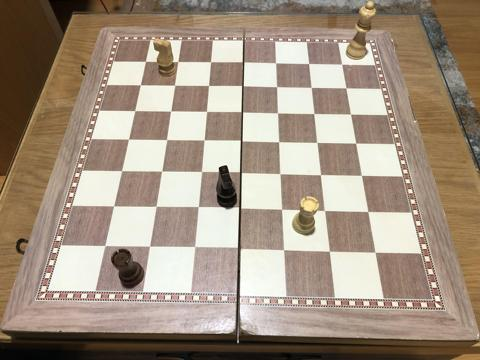xcorner: (303, 58, 315, 71), (238, 57, 250, 70), (173, 56, 185, 69), (123, 133, 135, 146), (108, 200, 120, 213), (336, 59, 348, 71), (271, 58, 283, 70), (205, 57, 217, 69), (140, 56, 152, 68), (341, 83, 353, 95), (306, 82, 318, 94), (272, 82, 284, 94), (237, 81, 249, 93), (203, 80, 215, 92), (169, 80, 181, 92), (135, 79, 147, 91), (345, 109, 357, 121), (309, 108, 321, 120), (273, 108, 285, 120), (237, 107, 249, 119), (201, 106, 213, 118), (165, 106, 177, 118), (129, 105, 141, 117), (350, 138, 362, 150), (312, 137, 324, 149), (274, 136, 286, 148), (236, 136, 248, 148), (198, 135, 210, 147), (161, 134, 173, 146), (356, 170, 368, 182), (316, 169, 328, 181), (275, 168, 287, 180), (235, 167, 247, 179), (195, 167, 207, 179), (156, 166, 168, 178), (116, 165, 128, 177), (362, 206, 374, 218), (320, 205, 332, 217), (277, 204, 289, 216), (235, 203, 247, 215), (192, 202, 204, 214), (150, 201, 162, 213), (370, 246, 382, 258), (324, 245, 336, 257), (279, 244, 291, 256), (234, 243, 246, 255), (189, 242, 201, 254), (144, 241, 156, 253), (99, 240, 111, 252)
